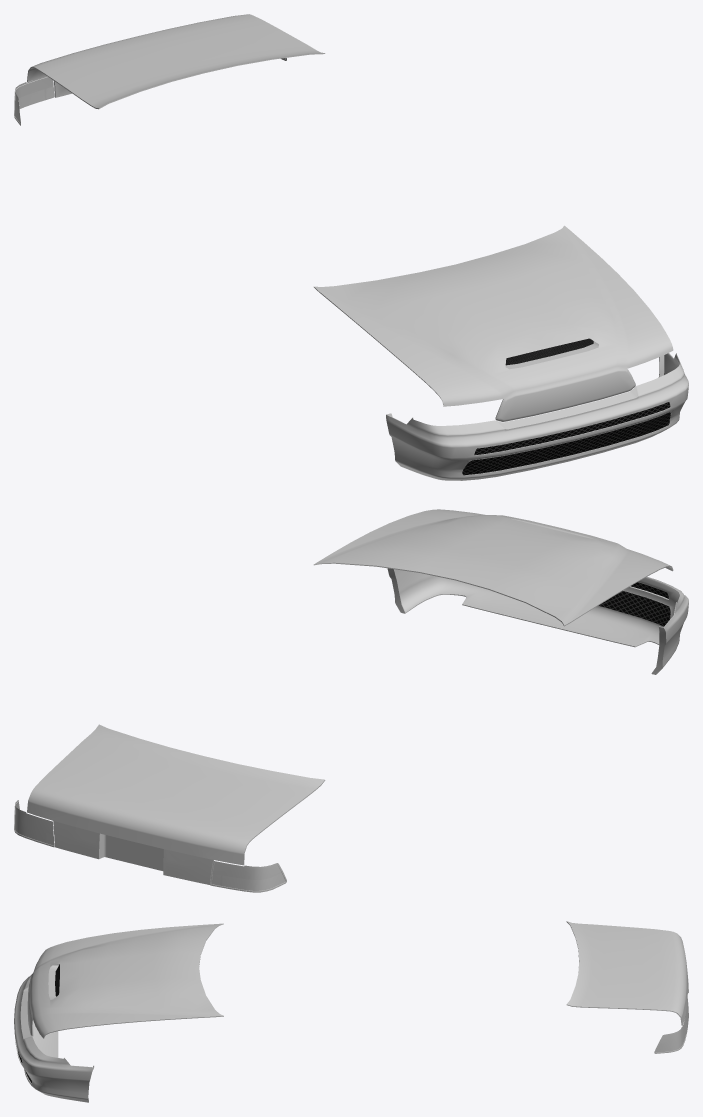
Rendered from fullsize_perf.dae.
The picture shows the model from 3 angles, top to bottom: view 1: azimuth 30°, elevation 25°; view 2: azimuth 150°, elevation 25°; view 3: azimuth 270°, elevation 25°; orthographic projection. The views are drawn at different scales.
Parts seen in each view (by area): view 1: fullsize_hood_perf, fullsize_bumper_F_perf, fullsize_trunk_aft, fullsize_taillight_R_aft1; view 2: fullsize_trunk_aft, fullsize_hood_perf, fullsize_bumper_F_perf, fullsize_taillight_R_aft1, fullsize_taillightglass_R_aft1, fullsize_taillight_L_aft1, fullsize_taillightglass_L_aft1; view 3: fullsize_hood_perf, fullsize_trunk_aft, fullsize_bumper_F_perf, fullsize_taillight_L_aft1, fullsize_taillightglass_L_aft1.
Boxes of the visible parts, box(x1,y1,x2,y2) form: fullsize_hood_perf: box(314, 225, 673, 421); fullsize_bumper_F_perf: box(386, 353, 688, 480); fullsize_trunk_aft: box(27, 14, 325, 109); fullsize_taillight_R_aft1: box(14, 76, 54, 125); fullsize_trunk_aft: box(27, 724, 325, 884); fullsize_hood_perf: box(313, 509, 673, 626); fullsize_bumper_F_perf: box(387, 568, 688, 674); fullsize_taillight_R_aft1: box(210, 861, 286, 892); fullsize_taillightglass_R_aft1: box(211, 862, 285, 890); fullsize_taillight_L_aft1: box(14, 800, 54, 847); fullsize_taillightglass_L_aft1: box(14, 807, 53, 845); fullsize_hood_perf: box(27, 923, 223, 1038); fullsize_trunk_aft: box(566, 921, 688, 1031); fullsize_bumper_F_perf: box(14, 973, 94, 1102); fullsize_taillight_L_aft1: box(654, 1017, 686, 1053); fullsize_taillightglass_L_aft1: box(656, 1019, 686, 1052).
Size of the model in its own units: 1.88 by 5.21 by 0.807.
